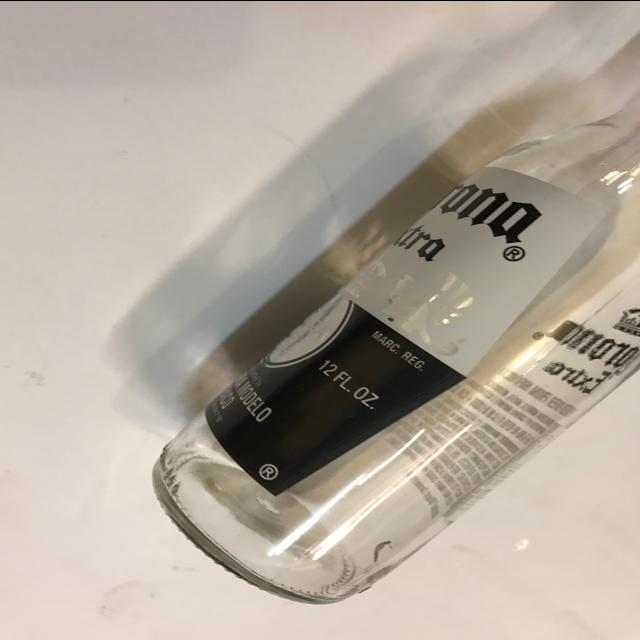glass: (150, 80, 640, 604)
